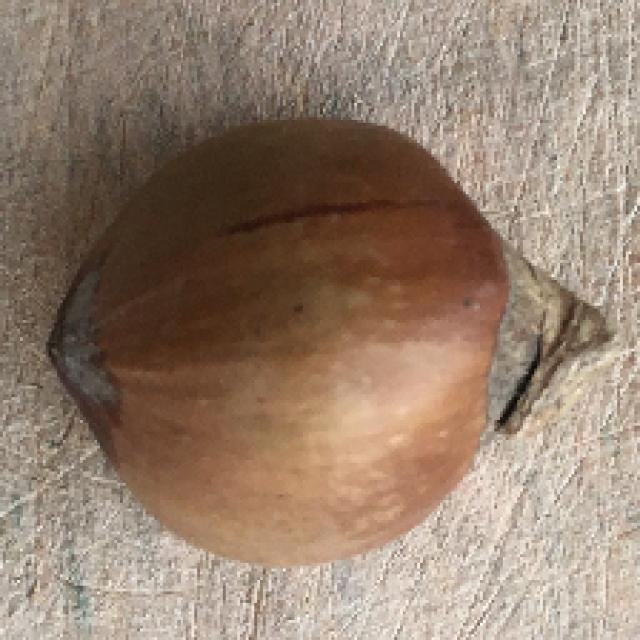damagedHazelnut: (22, 114, 616, 565)
